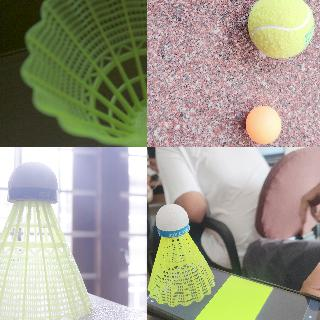shuttlecock: (21, 0, 146, 146), (0, 161, 93, 319), (147, 203, 216, 308)
